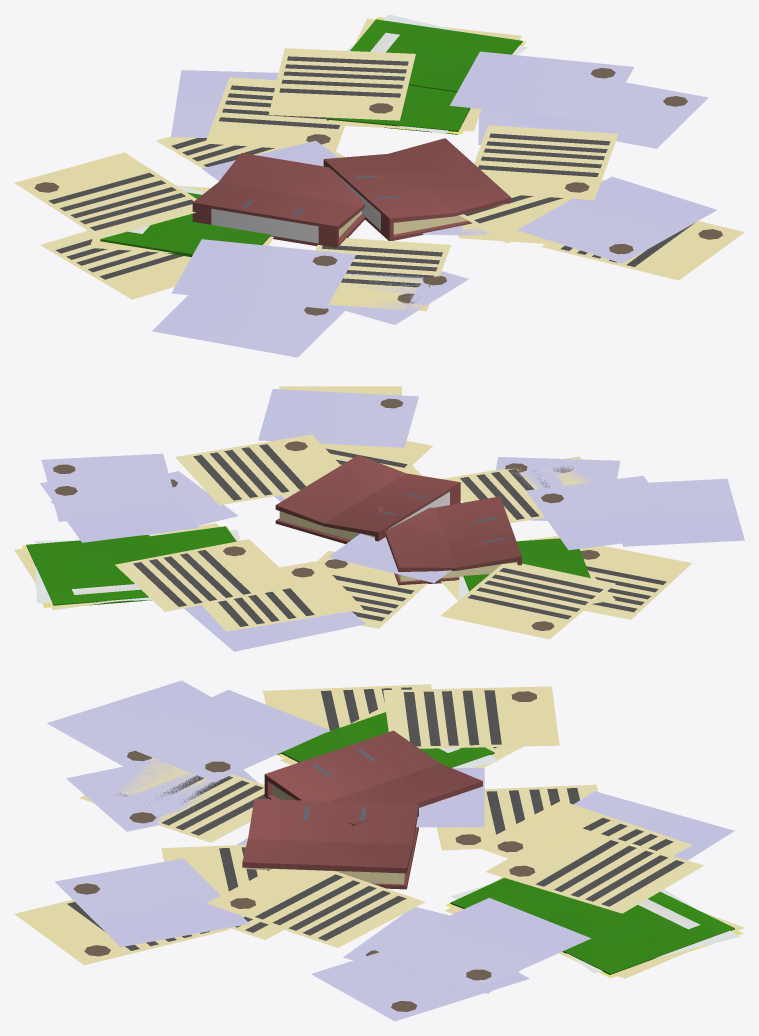
The model's file is papeles_piso.fbx.
3 views of the same model, one above another, from view 1: azimuth 30°, elevation 25°; view 2: azimuth 150°, elevation 25°; view 3: azimuth 270°, elevation 25° (orthographic). The views are drawn at different scales.
Parts seen in each view (by area): view 1: Conjunto_Hojas, conjunto_carpetas_v2, conjunto_carpetas_v1; view 2: Conjunto_Hojas, conjunto_carpetas_v2, conjunto_carpetas_v1; view 3: Conjunto_Hojas, conjunto_carpetas_v2, conjunto_carpetas_v1.
Part boxes in pixels (x1,y1,x2,y2): Conjunto_Hojas: (14,48,716,308); conjunto_carpetas_v2: (40,14,744,357); conjunto_carpetas_v1: (100,77,604,324); Conjunto_Hojas: (40,389,685,639); conjunto_carpetas_v2: (14,386,744,651); conjunto_carpetas_v1: (50,455,620,631); Conjunto_Hojas: (55,686,703,990); conjunto_carpetas_v2: (14,680,744,1021); conjunto_carpetas_v1: (66,712,692,993).
Bounding box in the file's own units: 57.4 × 1.93 × 51.99.
